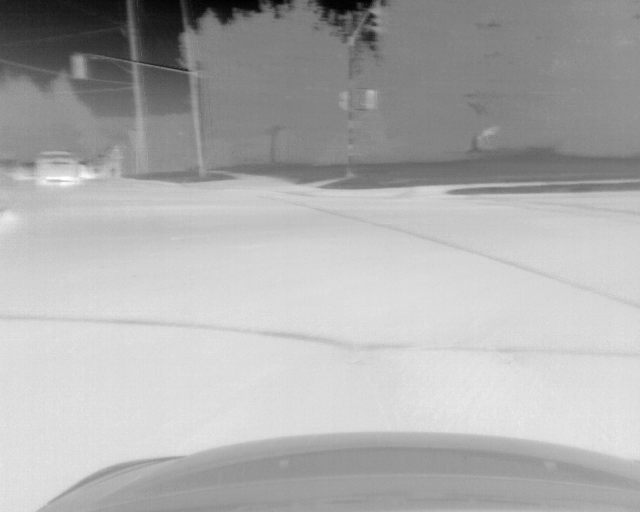car: (35, 151, 80, 189)
